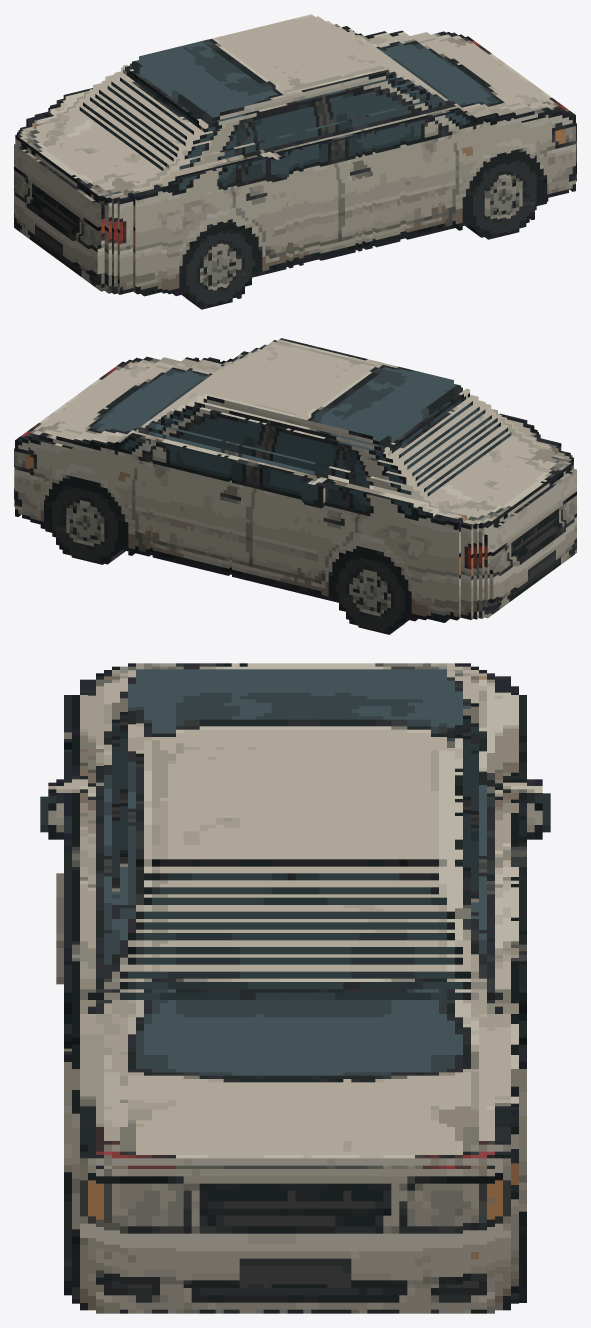
Rendered from city_sedan_white.glb.
The picture shows the model from 3 angles, top to bottom: view 1: azimuth 30°, elevation 25°; view 2: azimuth 150°, elevation 25°; view 3: azimuth 270°, elevation 25°; orthographic projection. The views are drawn at different scales.
Parts seen in each view (by area): view 1: city_sedan_white; view 2: city_sedan_white; view 3: city_sedan_white.
Part boxes in pixels (left/top/right/bottom): city_sedan_white: left=14, top=14, right=576, bottom=309; city_sedan_white: left=14, top=338, right=576, bottom=634; city_sedan_white: left=40, top=663, right=550, bottom=1313.
Bounding box in the file's own units: 4.41 × 1.56 × 2.
